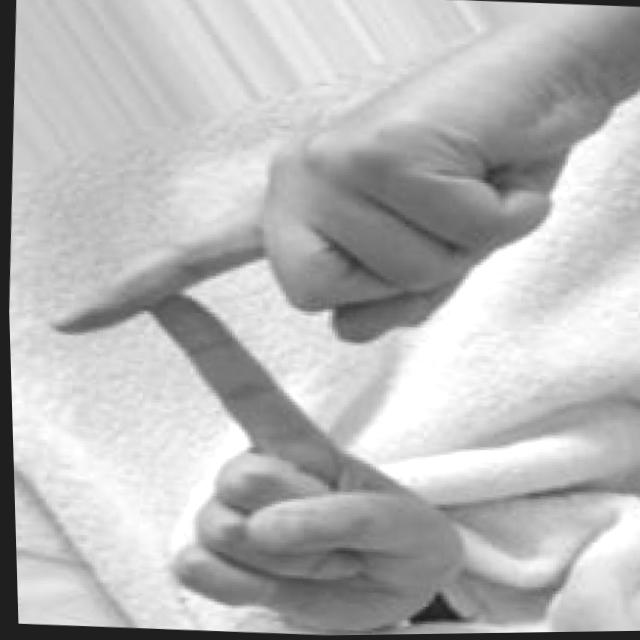T: (16, 7, 608, 640)
